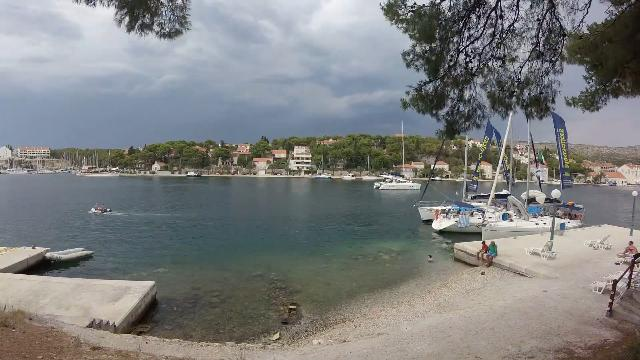Sailboat: (369, 172, 425, 195)
speedboat: (85, 200, 116, 218)
